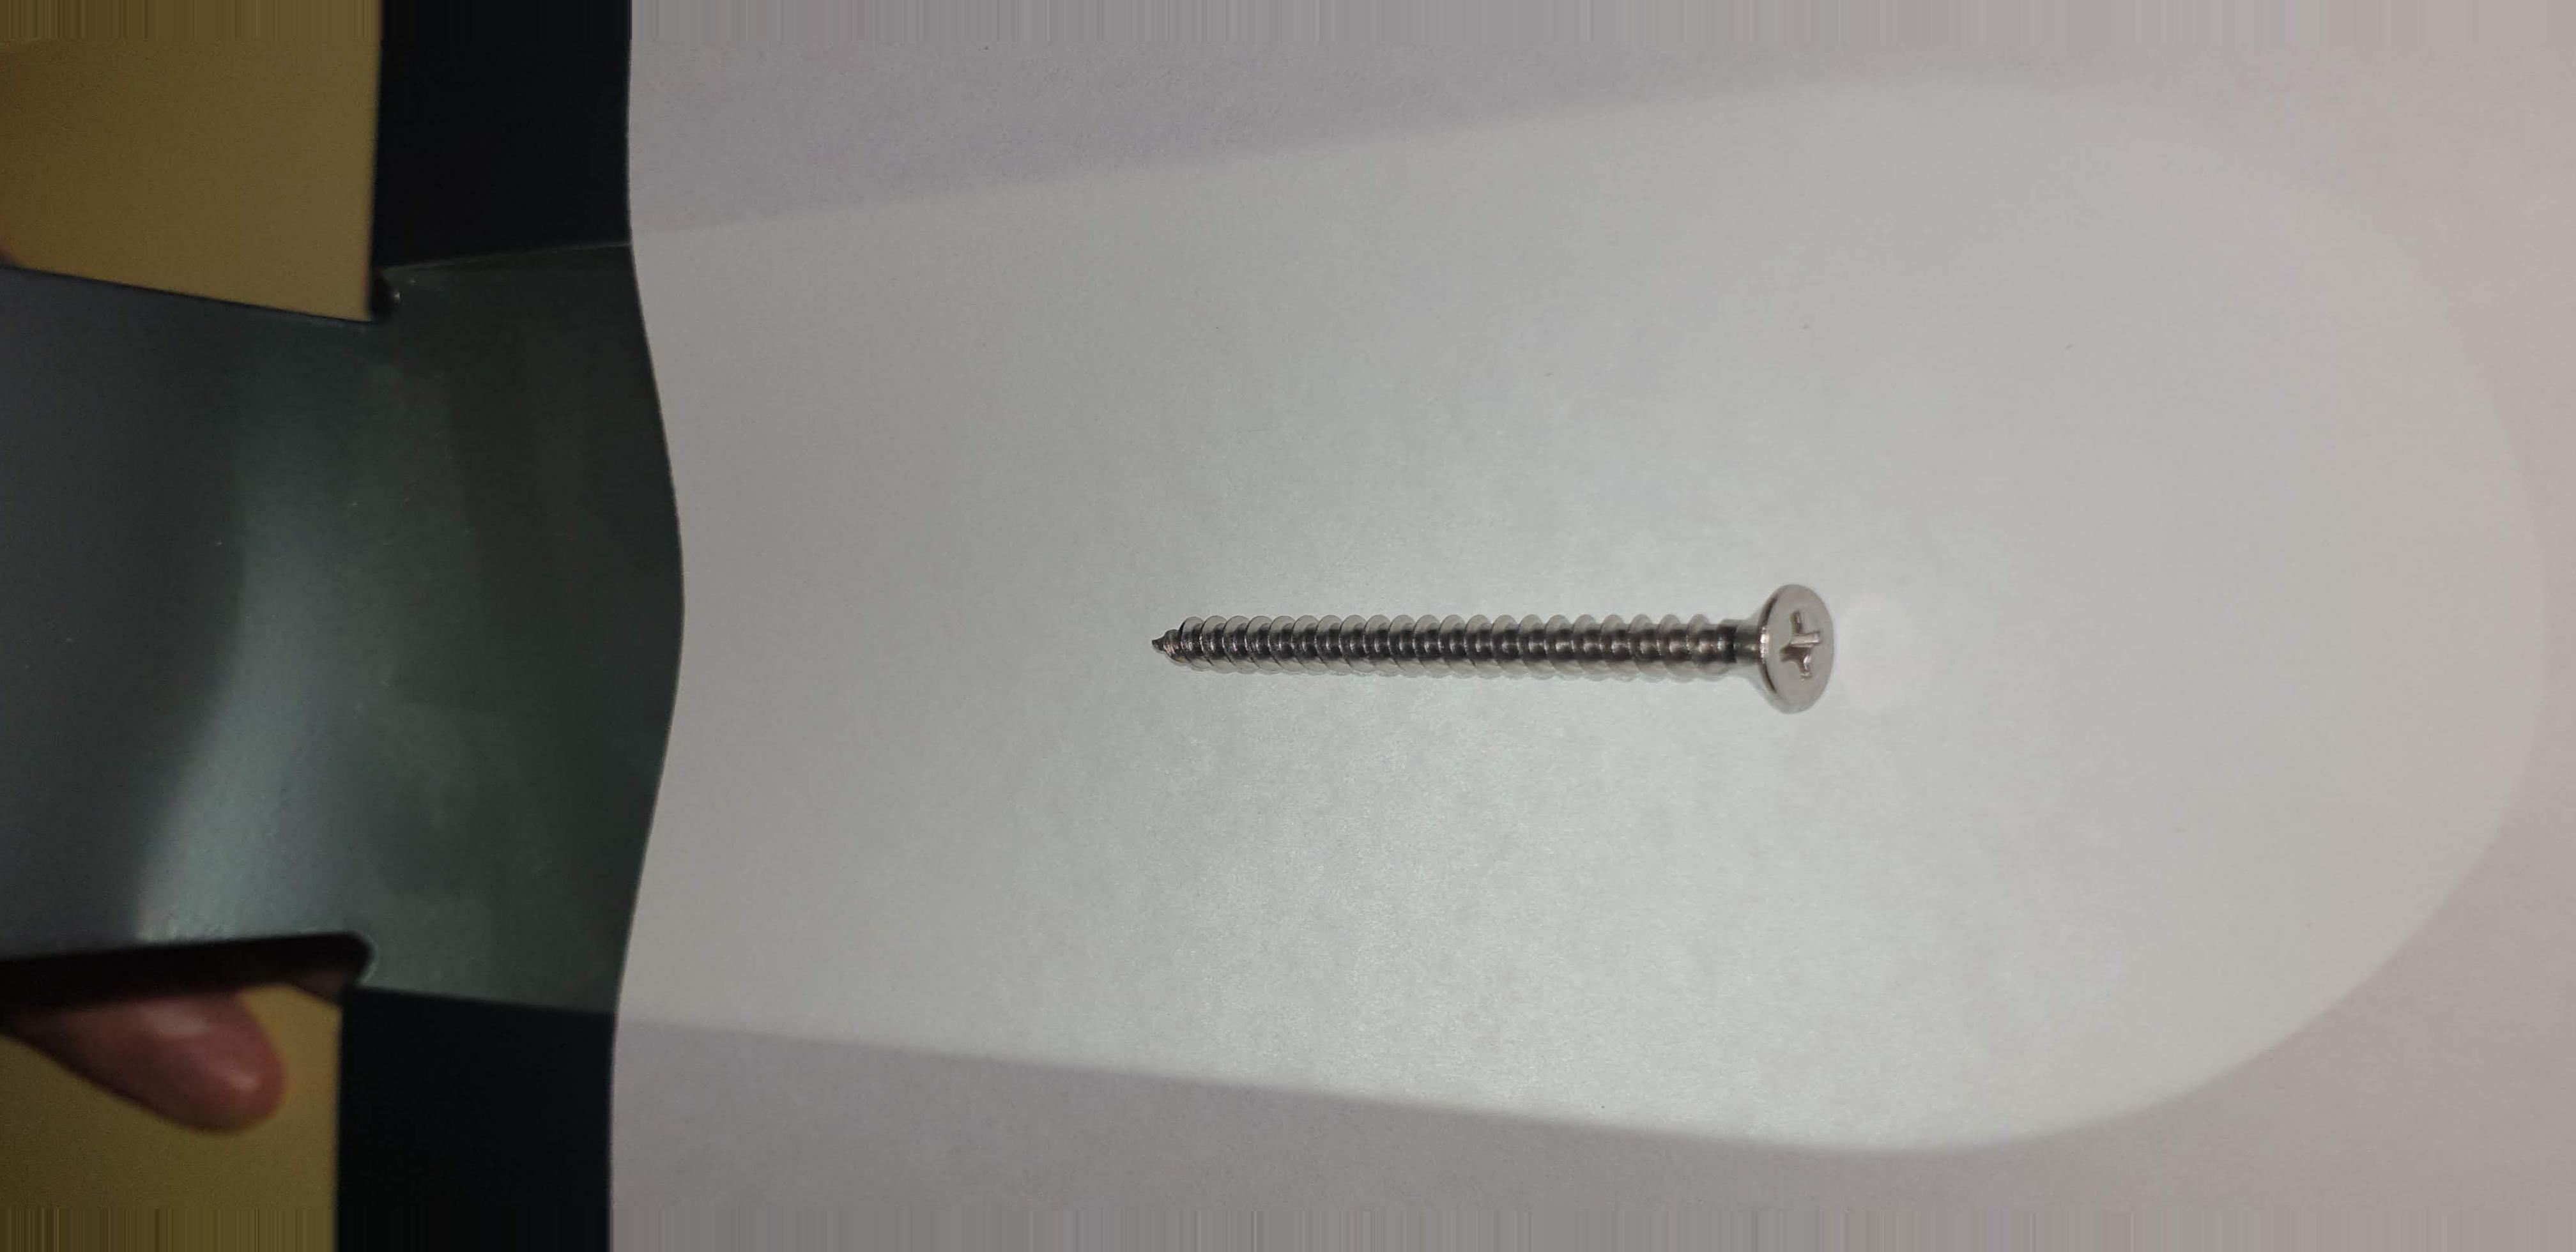fastener: (1048, 524, 1901, 795)
